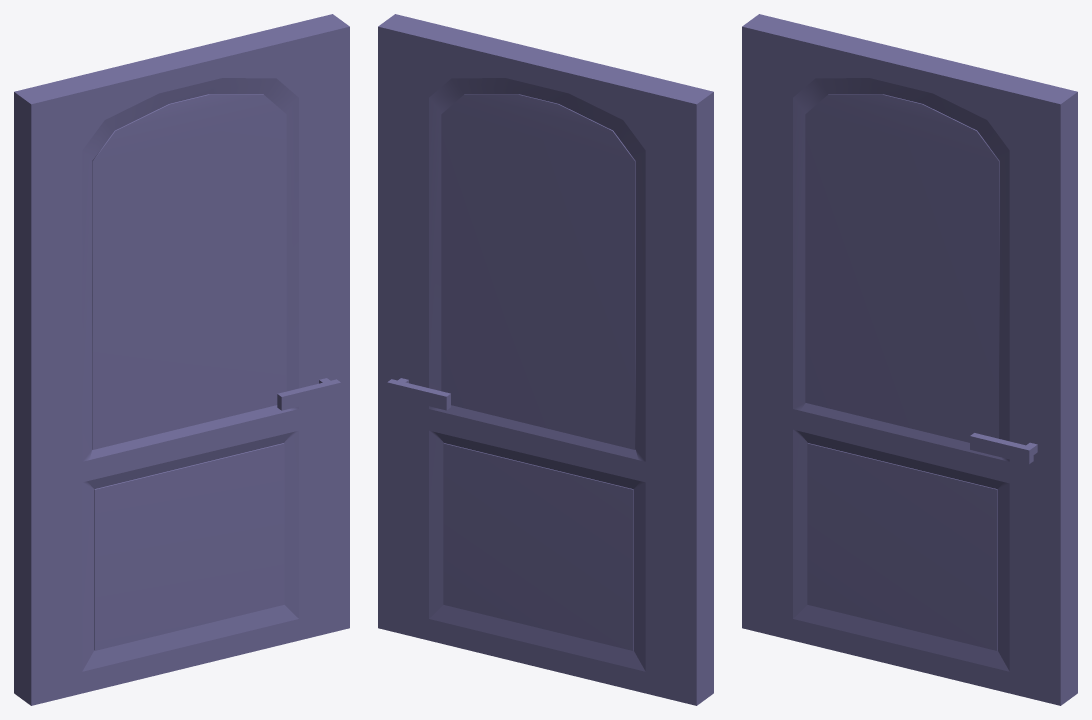
The model's file is puerta01.fbx.
The picture shows the model from 3 angles, left to right: view 1: azimuth 30°, elevation 25°; view 2: azimuth 150°, elevation 25°; view 3: azimuth 330°, elevation 25°; orthographic projection.
Parts seen in each view (by area): view 1: Puerta01; view 2: Puerta01; view 3: Puerta01.
Part boxes in pixels (box(x1,y1,x2,y2)): Puerta01: box(14, 14, 349, 705); Puerta01: box(378, 14, 713, 705); Puerta01: box(742, 14, 1077, 705).
Bounding box in the file's own units: 1.24 × 2.24 × 0.2659.
